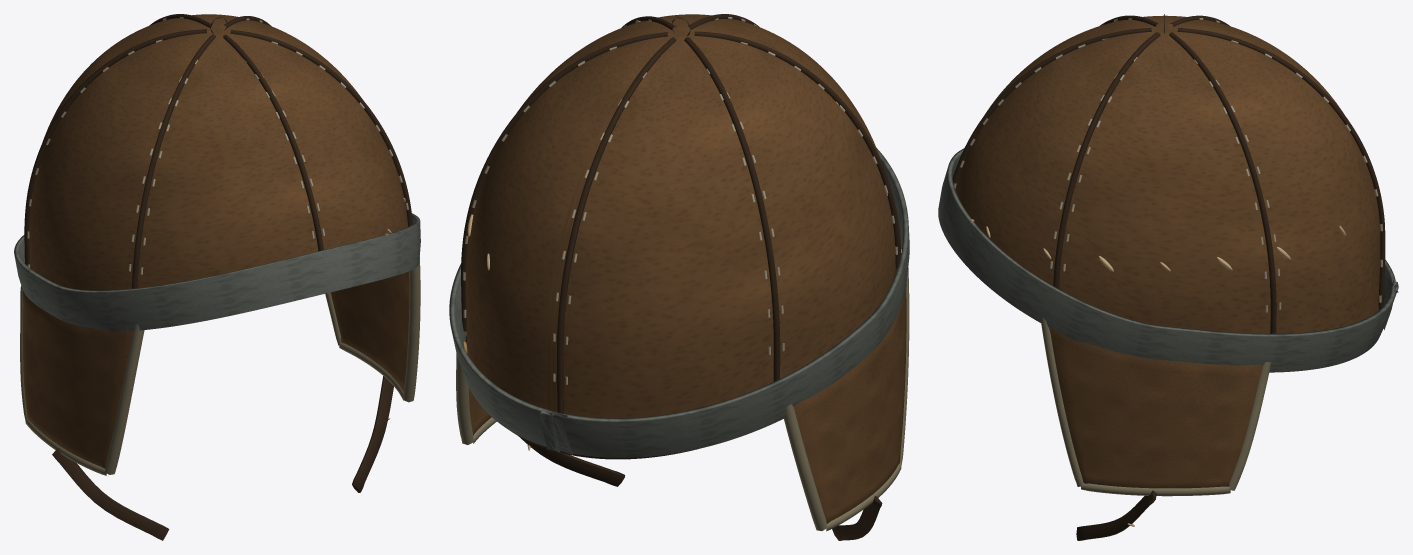
3 renders of one model, left to right at view 1: azimuth 30°, elevation 25°; view 2: azimuth 150°, elevation 25°; view 3: azimuth 270°, elevation 25°, orthographic. The views are drawn at different scales.
Visible parts, largest first — view 1: tanned leather, weathered plate, oiled strap leather, quilted linen lining, waxed linen thread; view 2: tanned leather, weathered plate, oiled strap leather, quilted linen lining, waxed linen thread; view 3: tanned leather, weathered plate, oiled strap leather, quilted linen lining, waxed linen thread.
Boxes of the visible parts, x1,y1,x2,y2 form: tanned leather: (22,14,409,468); weathered plate: (14,213,420,332); oiled strap leather: (24,14,412,540); quilted linen lining: (20,256,420,475); waxed linen thread: (27,16,408,274); tanned leather: (466,14,906,523); weathered plate: (449,148,909,457); oiled strap leather: (461,14,900,540); quilted linen lining: (456,268,909,531); waxed linen thread: (463,17,897,384); tanned leather: (955,15,1380,488); weathered plate: (938,148,1398,372); oiled strap leather: (952,14,1385,540); quilted linen lining: (1041,317,1270,496); waxed linen thread: (954,18,1382,312).
Bounding box in the file's own units: 0.2399 × 0.3124 × 0.2733.
8 materials, 6 textured.
